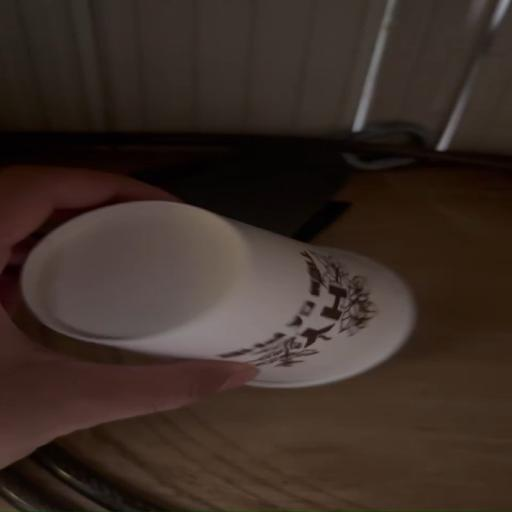ly_giay: (20, 201, 415, 387)
